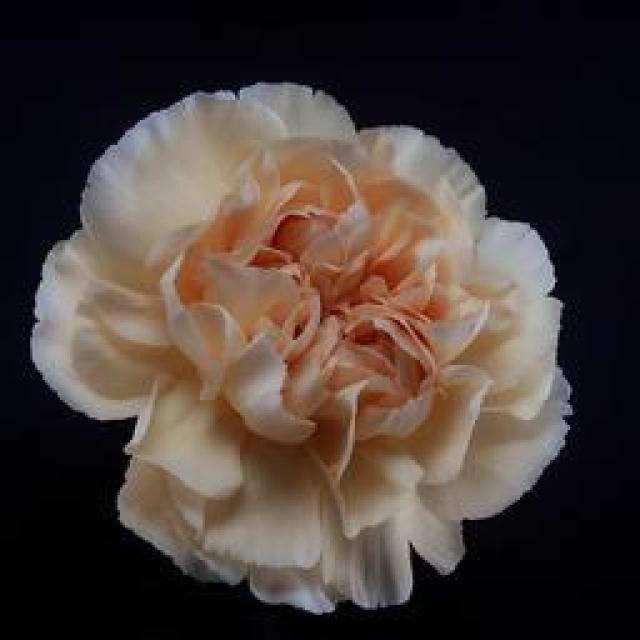carnation: (23, 83, 577, 610)
